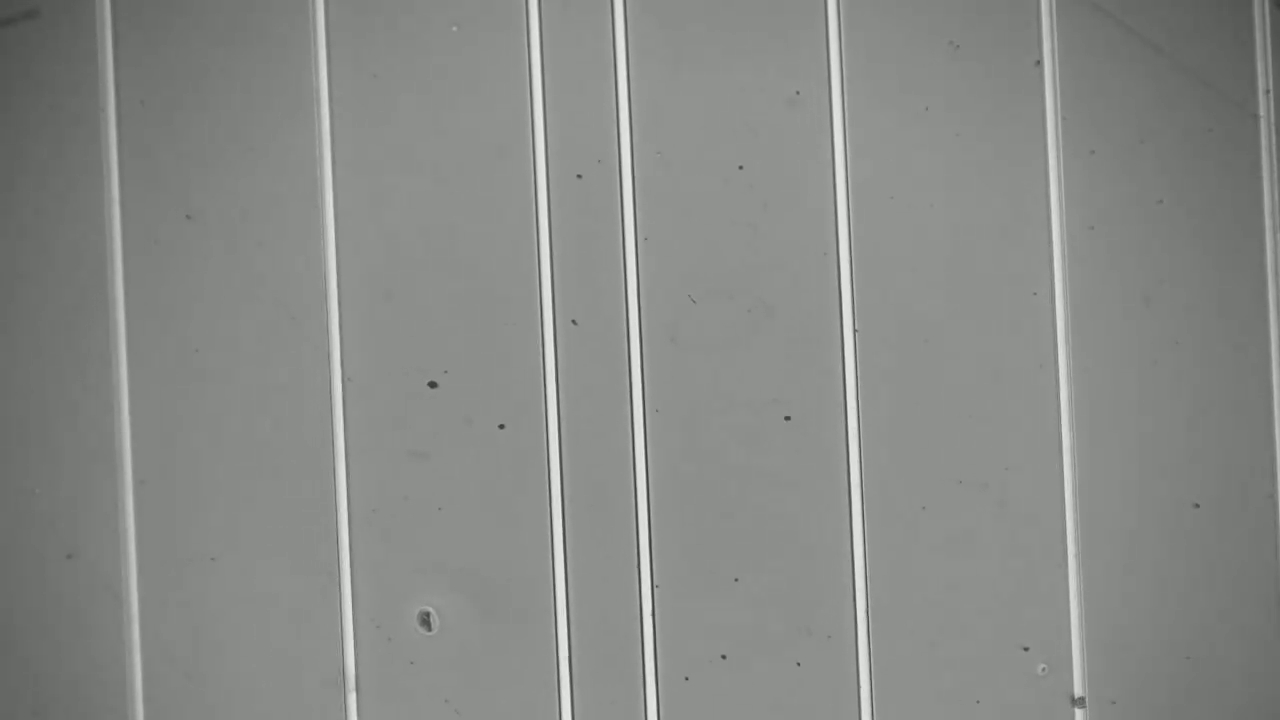stains_enbedded: (1067, 688, 1093, 714)
